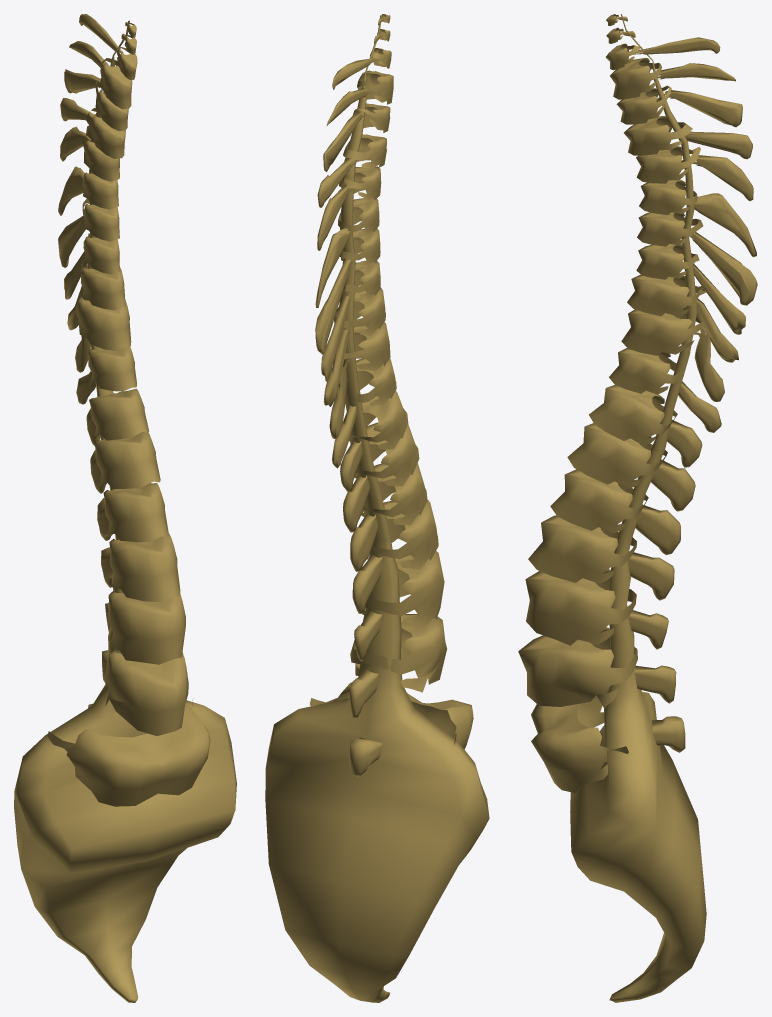
Rendered from Spine.obj.
The picture shows the model from 3 angles, left to right: view 1: azimuth 30°, elevation 25°; view 2: azimuth 150°, elevation 25°; view 3: azimuth 270°, elevation 25°; orthographic projection.
Visible parts, largest first — view 1: Spine2, spine; view 2: spine, Spine2; view 3: Spine2, spine.
Part boxes in pixels (bbox=[...]): Spine2: bbox=[47, 14, 210, 806]; spine: bbox=[14, 20, 236, 1002]; spine: bbox=[265, 15, 489, 1002]; Spine2: bbox=[309, 14, 473, 776]; Spine2: bbox=[518, 14, 757, 792]; spine: bbox=[570, 14, 706, 1002].
Bounding box in the file's own units: 1.49 × 6.5 × 1.43.
